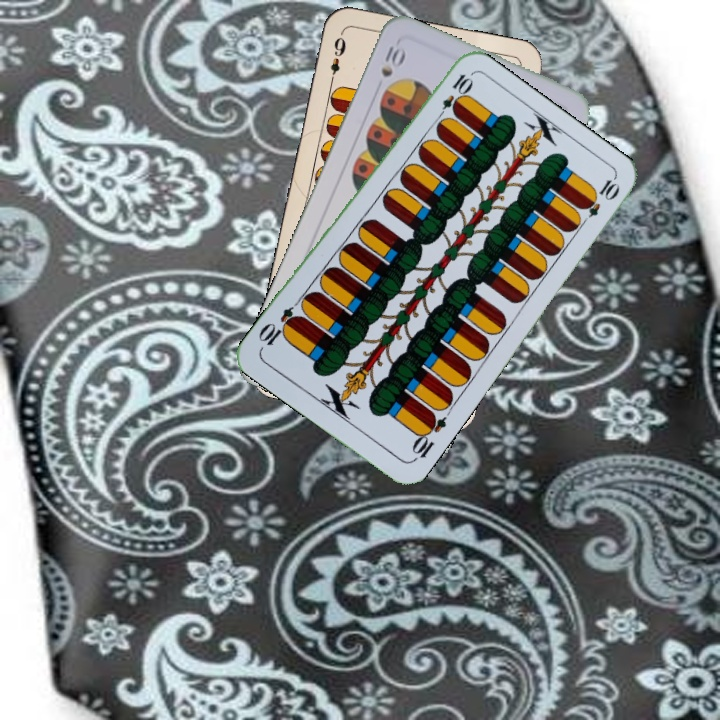E10: (407, 408, 449, 464), (432, 69, 474, 124)
E9: (326, 28, 349, 87)
S10: (377, 41, 408, 80)
